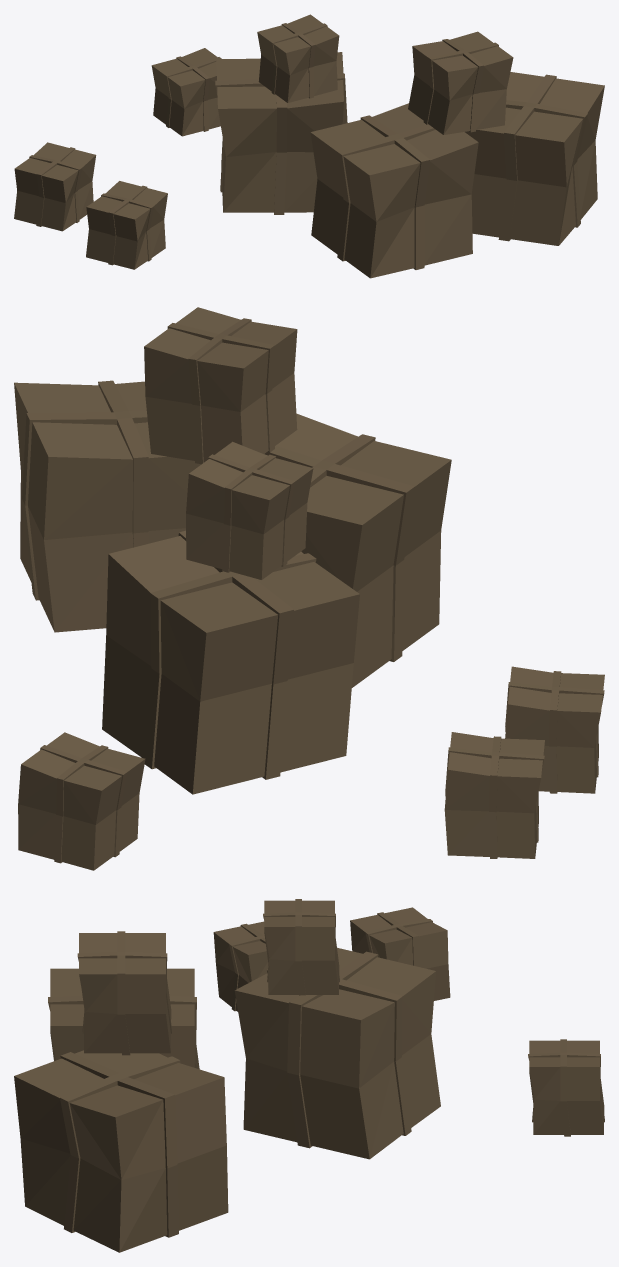
Rendered from kisten.fbx.
3 views of the same model, one above another, from view 1: azimuth 30°, elevation 25°; view 2: azimuth 150°, elevation 25°; view 3: azimuth 270°, elevation 25° (orthographic). The views are drawn at different scales.
Parts seen in each view (by area): view 1: Kiste, Kiste_2, Kiste_3, Kiste_4, Kiste_7, Kiste_8, Kiste_5, Kiste_6; view 2: Kiste_3, Kiste_2, Kiste, Kiste_4, Kiste_6, Kiste_5, Kiste_8, Kiste_7; view 3: Kiste_2, Kiste_3, Kiste_4, Kiste_6, Kiste_5, Kiste, Kiste_8, Kiste_7.
Part boxes in pixels (box(x1,y1,x2,y2)): Kiste: box(310, 103, 478, 278); Kiste_2: box(465, 72, 604, 245); Kiste_3: box(215, 52, 347, 214); Kiste_4: box(408, 31, 513, 134); Kiste_7: box(86, 181, 167, 269); Kiste_8: box(14, 142, 96, 231); Kiste_5: box(257, 14, 339, 102); Kiste_6: box(151, 48, 221, 136); Kiste_3: box(102, 530, 359, 794); Kiste_2: box(14, 380, 201, 632); Kiste: box(264, 413, 451, 687); Kiste_4: box(144, 307, 297, 464); Kiste_6: box(18, 732, 145, 870); Kiste_5: box(186, 441, 313, 579); Kiste_8: box(444, 732, 544, 858); Kiste_7: box(505, 666, 604, 793); Kiste_2: box(14, 1050, 228, 1252); Kiste_3: box(234, 947, 440, 1159); Kiste_4: box(77, 931, 171, 1055); Kiste_6: box(528, 1039, 604, 1136); Kiste_5: box(263, 899, 339, 995); Kiste: box(48, 968, 199, 1069); Kiste_8: box(350, 907, 450, 1000); Kiste_7: box(213, 921, 268, 1011).
Bounding box in the file's own units: 397 × 148 × 354.
